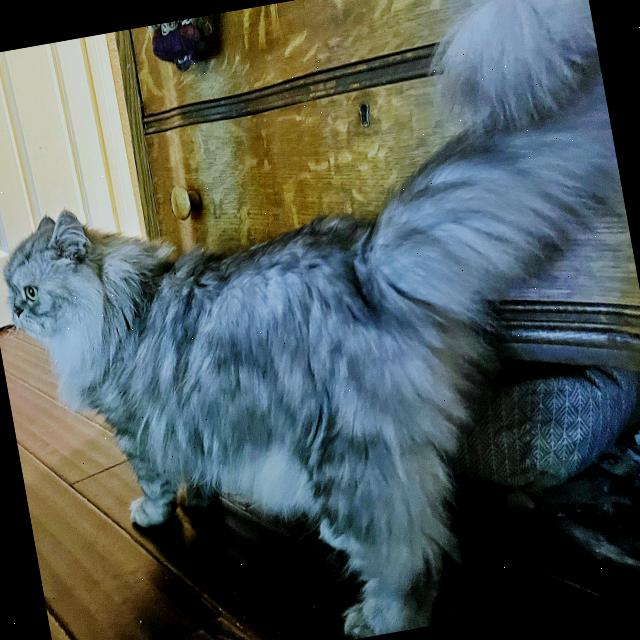persian_cat: (0, 183, 134, 379)
